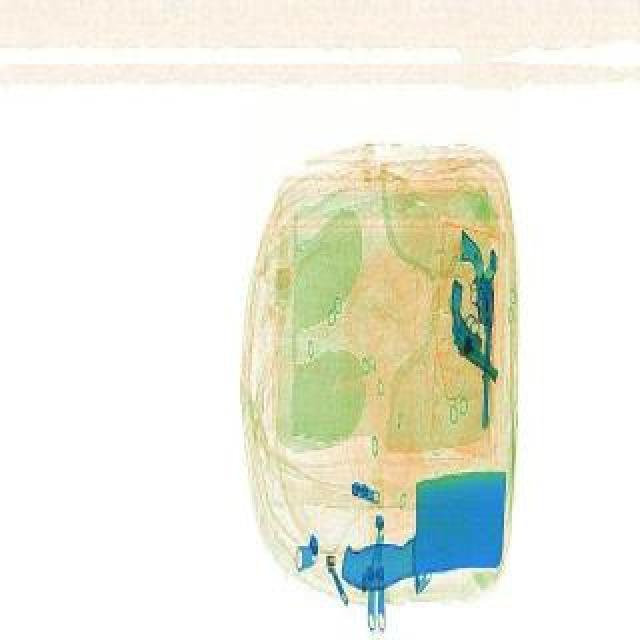gun: (418, 284, 534, 384), (460, 232, 500, 432)
knife: (338, 476, 514, 596)
